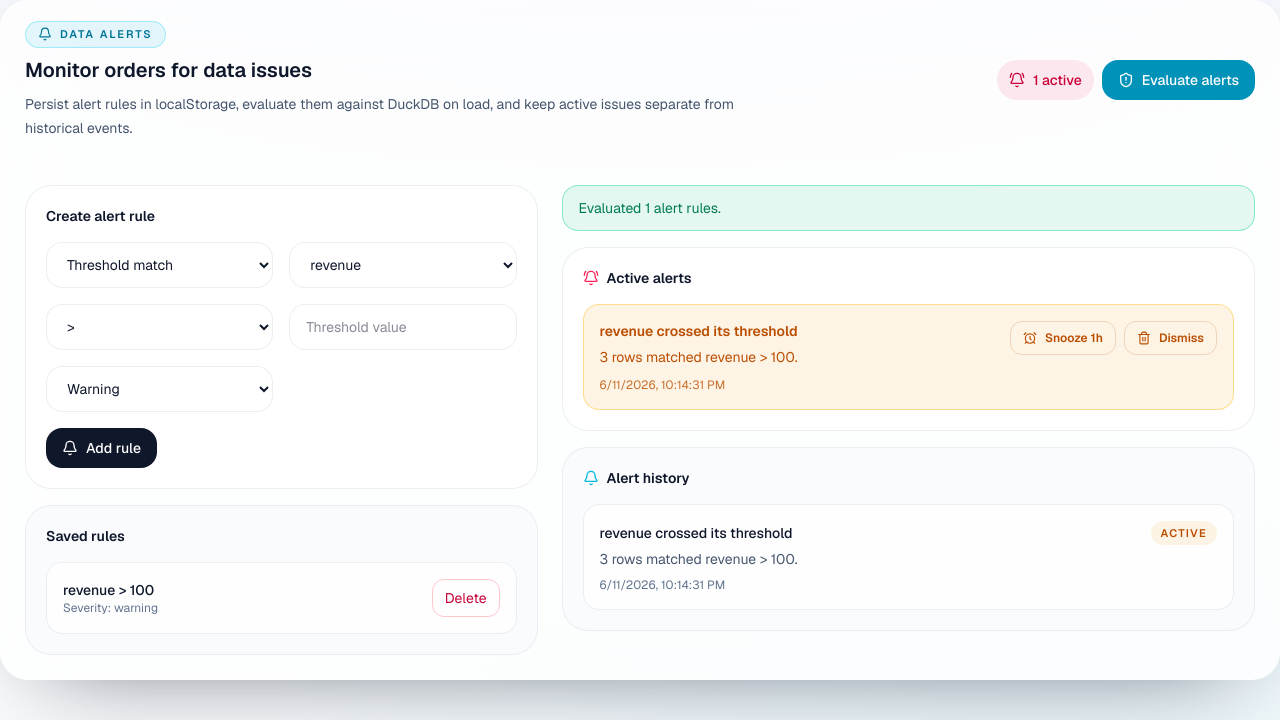
Test: DataAlerts › deletes a saved rule
The image size is (1280, 720).
Expected: the text "revenue > 100" is shown, [63,580,158,600]
Step 1. Click the button "Delete" → click(466, 598), box [432,578,500,616]
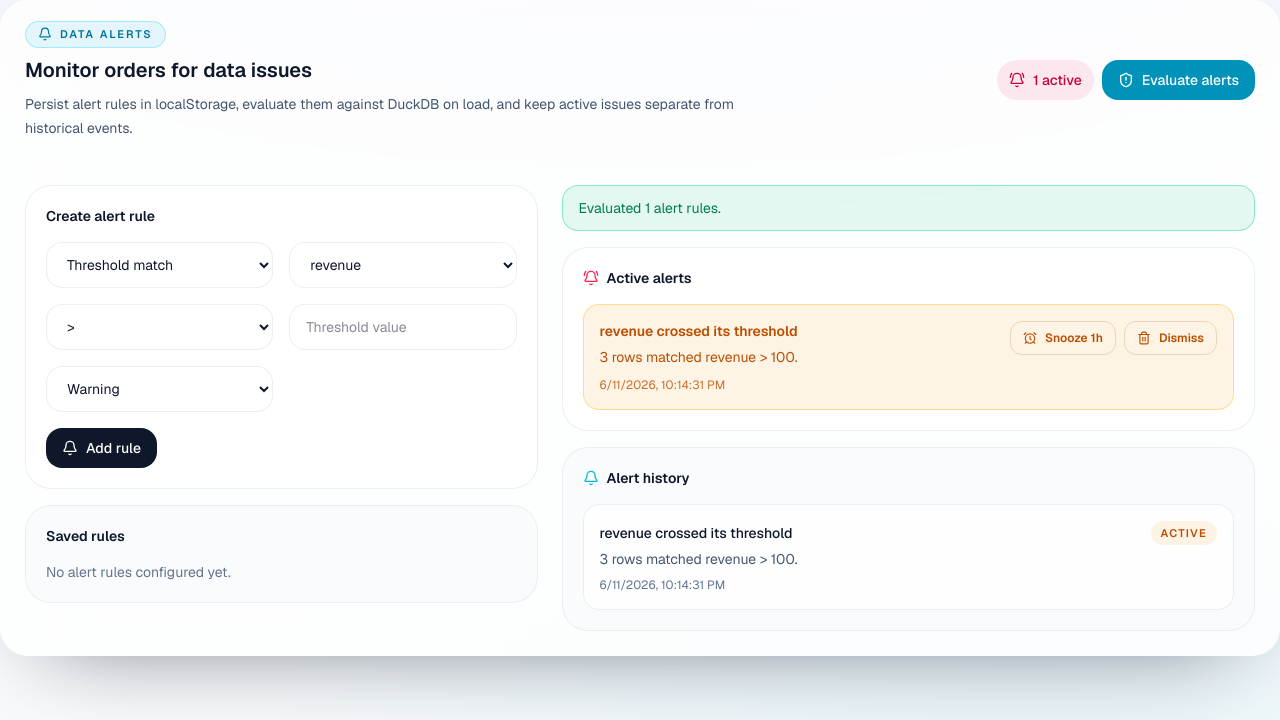
Expected: the text "No alert rules configured yet." is shown, [46,562,231,580]
